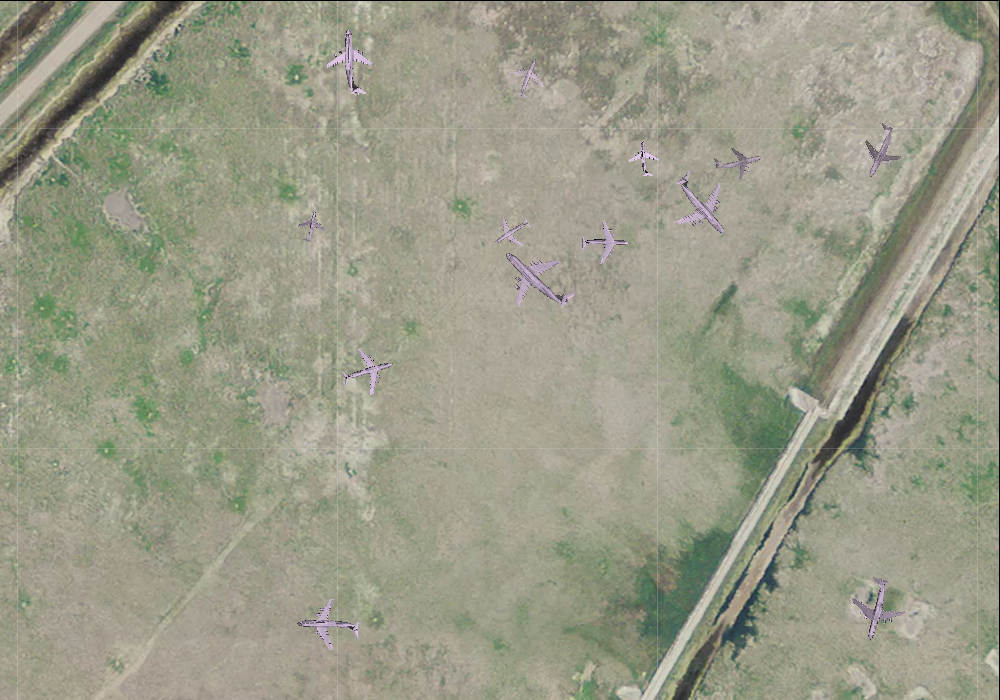plane: (483, 224, 591, 332), (653, 155, 751, 253), (839, 570, 913, 647), (846, 115, 913, 185), (323, 27, 382, 95), (335, 340, 399, 402), (296, 596, 360, 656), (484, 205, 539, 259), (710, 135, 766, 186), (502, 51, 553, 103), (579, 219, 629, 266), (627, 139, 663, 177), (293, 207, 328, 244)
